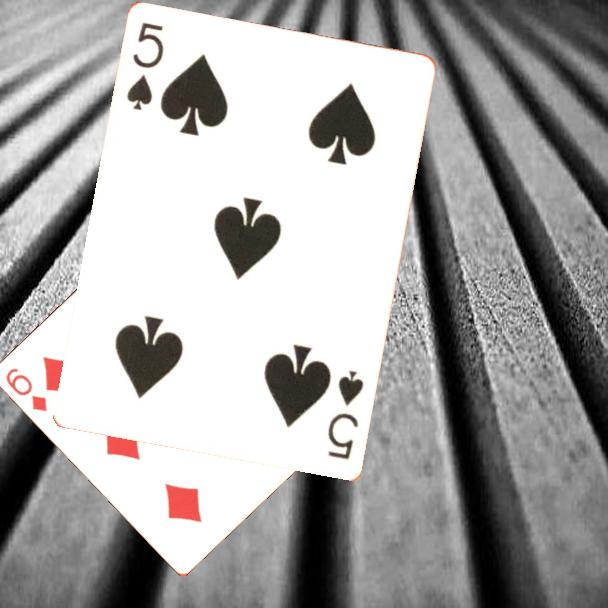d06: (2, 364, 50, 414)
s05: (123, 19, 167, 114), (324, 367, 367, 463)
